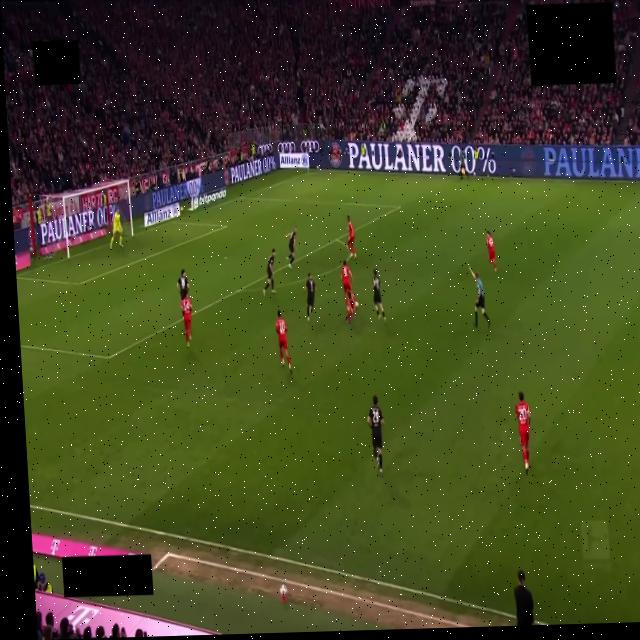ball: (356, 302, 358, 307)
player: (367, 396, 384, 476), (516, 392, 530, 474), (276, 310, 292, 373), (372, 269, 386, 322), (181, 295, 192, 346), (304, 272, 315, 320), (264, 248, 275, 295), (111, 211, 123, 249), (286, 227, 297, 268), (346, 290, 358, 325), (347, 215, 356, 259), (487, 231, 496, 272), (341, 260, 352, 292), (177, 269, 189, 298)
referee: (470, 267, 490, 328)
